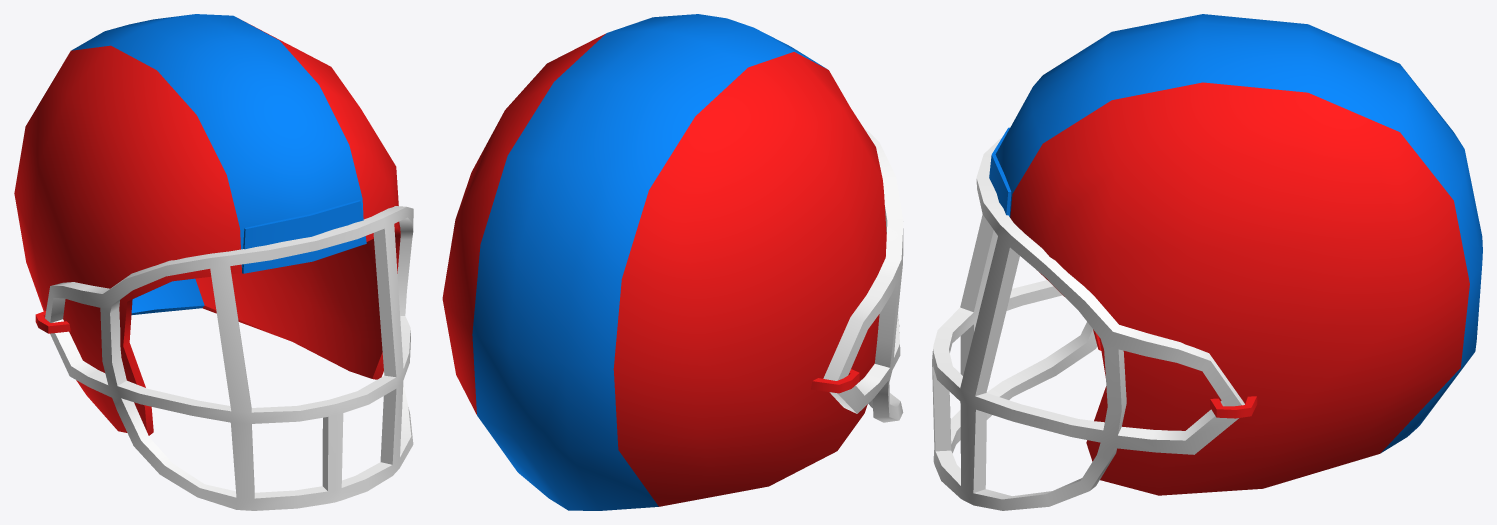
File: Hat_Helmet.fbx
3 renders of one model, left to right at view 1: azimuth 30°, elevation 25°; view 2: azimuth 150°, elevation 25°; view 3: azimuth 270°, elevation 25°, orthographic. The views are drawn at different scales.
Visible parts, largest first — view 1: Hat_Helmet.001; view 2: Hat_Helmet.001; view 3: Hat_Helmet.001.
Boxes of the visible parts, x1,y1,x2,y2 form: Hat_Helmet.001: [14, 14, 413, 510]; Hat_Helmet.001: [442, 14, 903, 510]; Hat_Helmet.001: [932, 14, 1482, 510].
Size of the model in its own units: 39.59 by 42.66 by 49.75.
